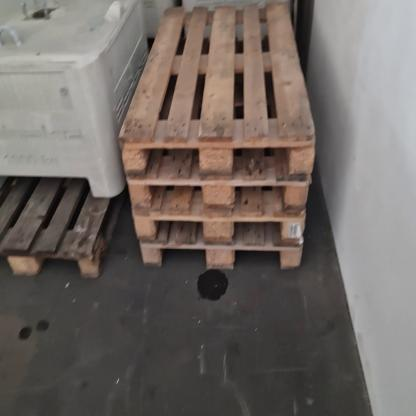BoxFace: (119, 0, 318, 179), (0, 179, 122, 277), (127, 176, 311, 221), (133, 214, 305, 248), (136, 238, 306, 271)
